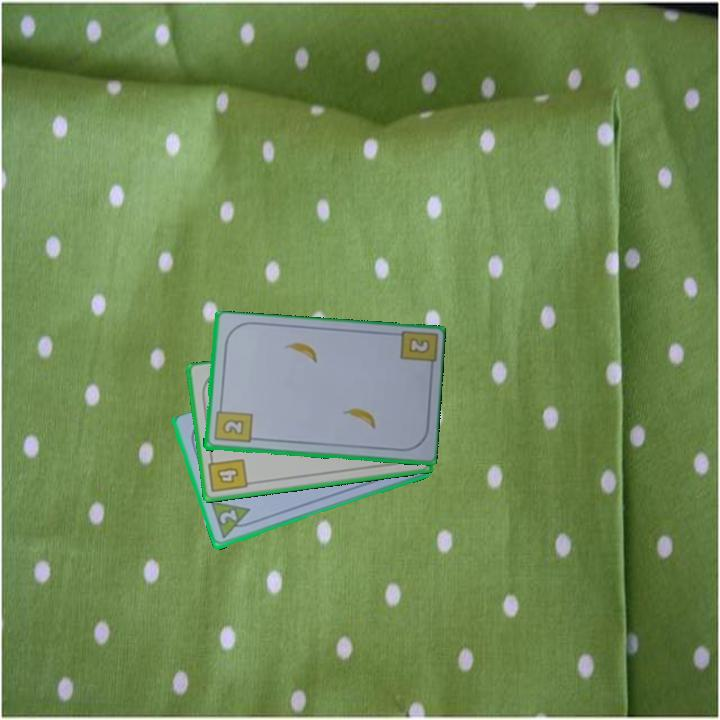2b: (211, 402, 254, 446), (407, 337, 430, 355)
2p: (216, 506, 240, 527)
4b: (205, 452, 250, 496)
